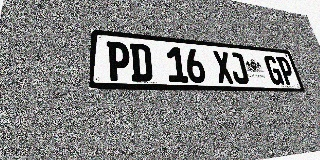1: (165, 46, 188, 83)
6: (184, 48, 207, 83)
D: (130, 43, 153, 82)
G: (263, 55, 285, 85)
J: (228, 52, 250, 84)
P: (107, 41, 131, 81), (276, 56, 297, 85)
X: (212, 51, 235, 84)
